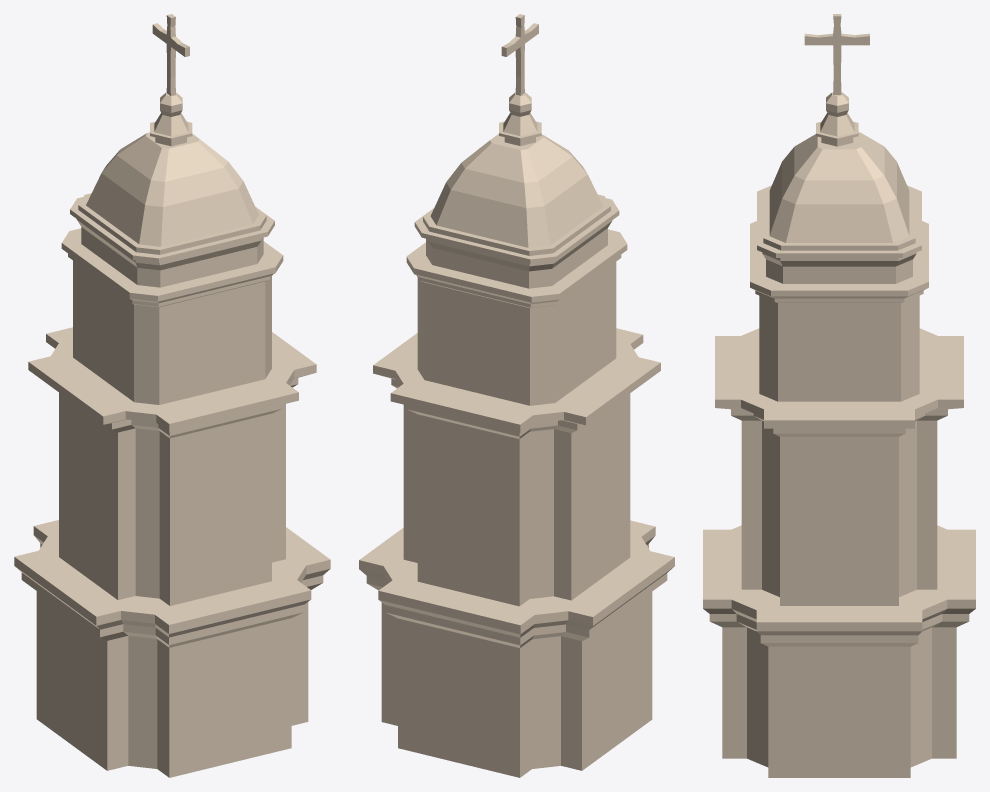
Rendered from BC_RoofPillar_A.fbx.
3 views of the same model, side by side, from view 1: azimuth 30°, elevation 25°; view 2: azimuth 150°, elevation 25°; view 3: azimuth 270°, elevation 25° (orthographic).
Visible parts, largest first — view 1: BC_RoofPillar_A; view 2: BC_RoofPillar_A; view 3: BC_RoofPillar_A.
Boxes of the visible parts, box(x1,y1,x2,y2) form: BC_RoofPillar_A: box(14, 14, 330, 777); BC_RoofPillar_A: box(359, 14, 674, 777); BC_RoofPillar_A: box(703, 14, 975, 777).
Size of the model in its own units: 589 by 1697 by 589.
